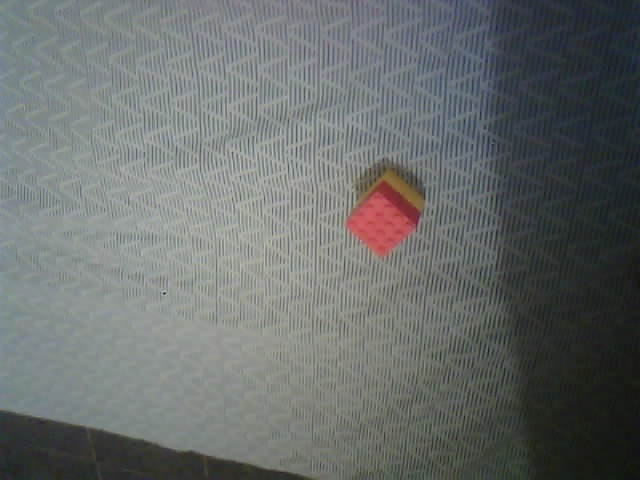lego: (343, 169, 426, 259)
